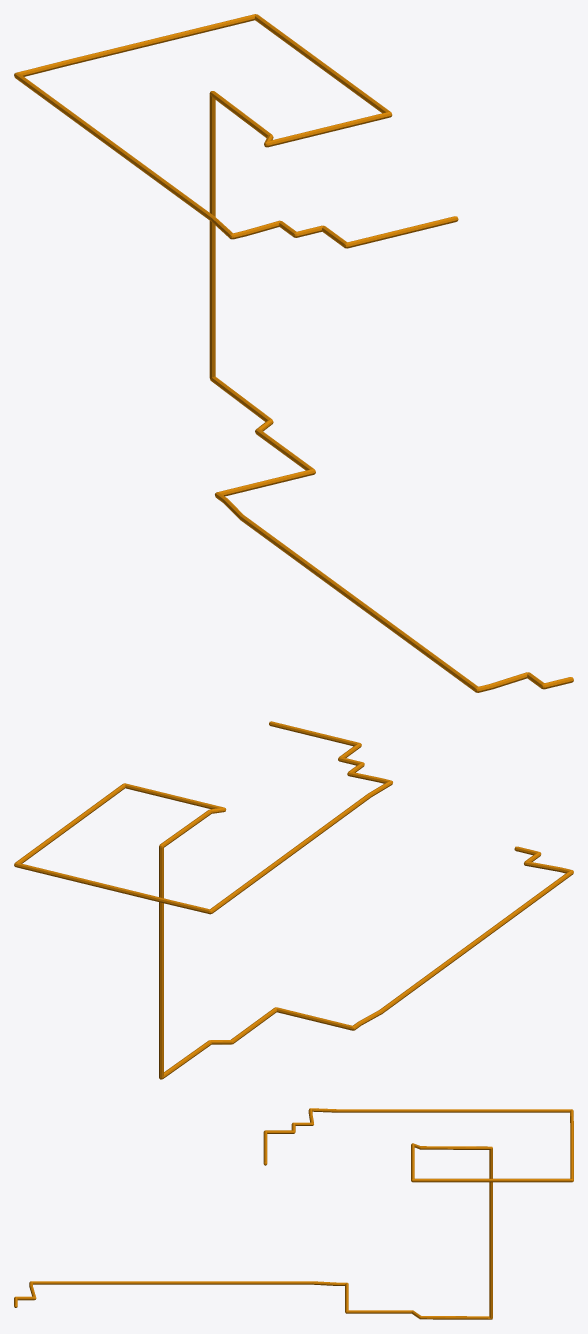
3 views of the same model, one above another, from view 1: azimuth 30°, elevation 25°; view 2: azimuth 150°, elevation 25°; view 3: azimuth 270°, elevation 25° (orthographic). The views are drawn at different scales.
Bounding box in the file's own units: 912 × 1020 × 2989.
